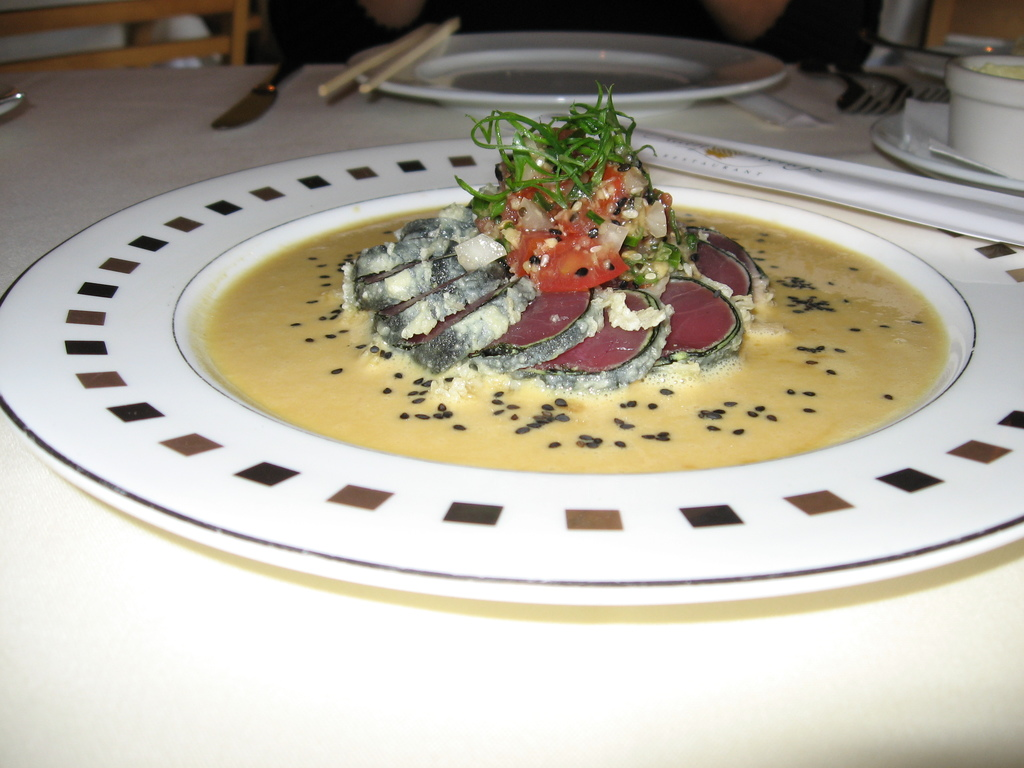plate: (349, 23, 783, 103)
